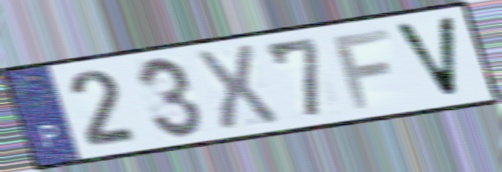2: (67, 68, 142, 151)
3: (133, 53, 206, 141)
7: (261, 35, 326, 120)
F: (330, 25, 394, 112)
V: (389, 14, 462, 101)
X: (190, 42, 283, 135)
